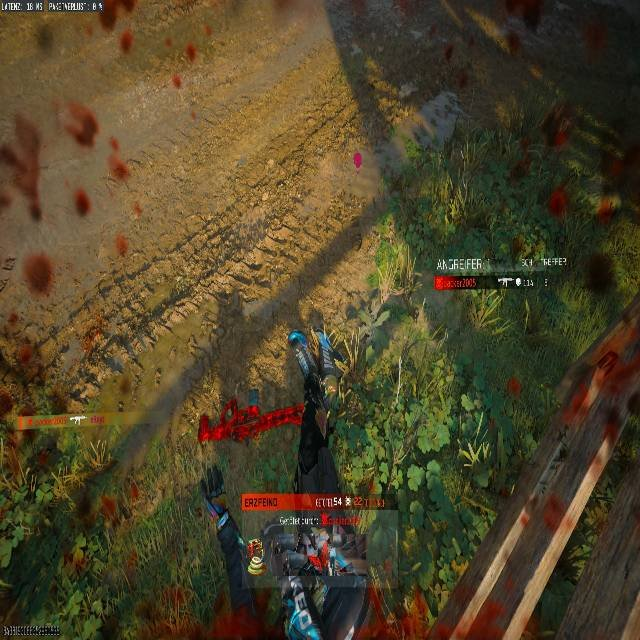player: (252, 513, 349, 640)
